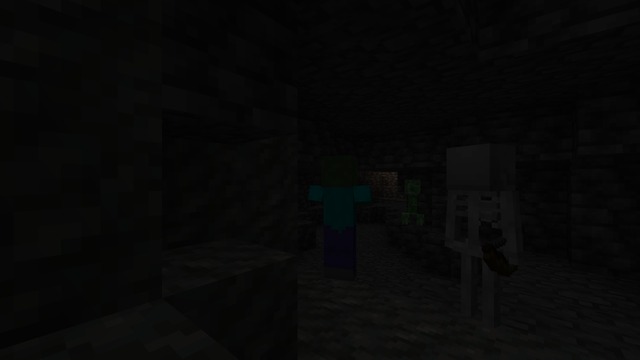creepers: (401, 177, 421, 224)
squelettes: (445, 143, 513, 341)
zombies: (314, 158, 364, 287)
